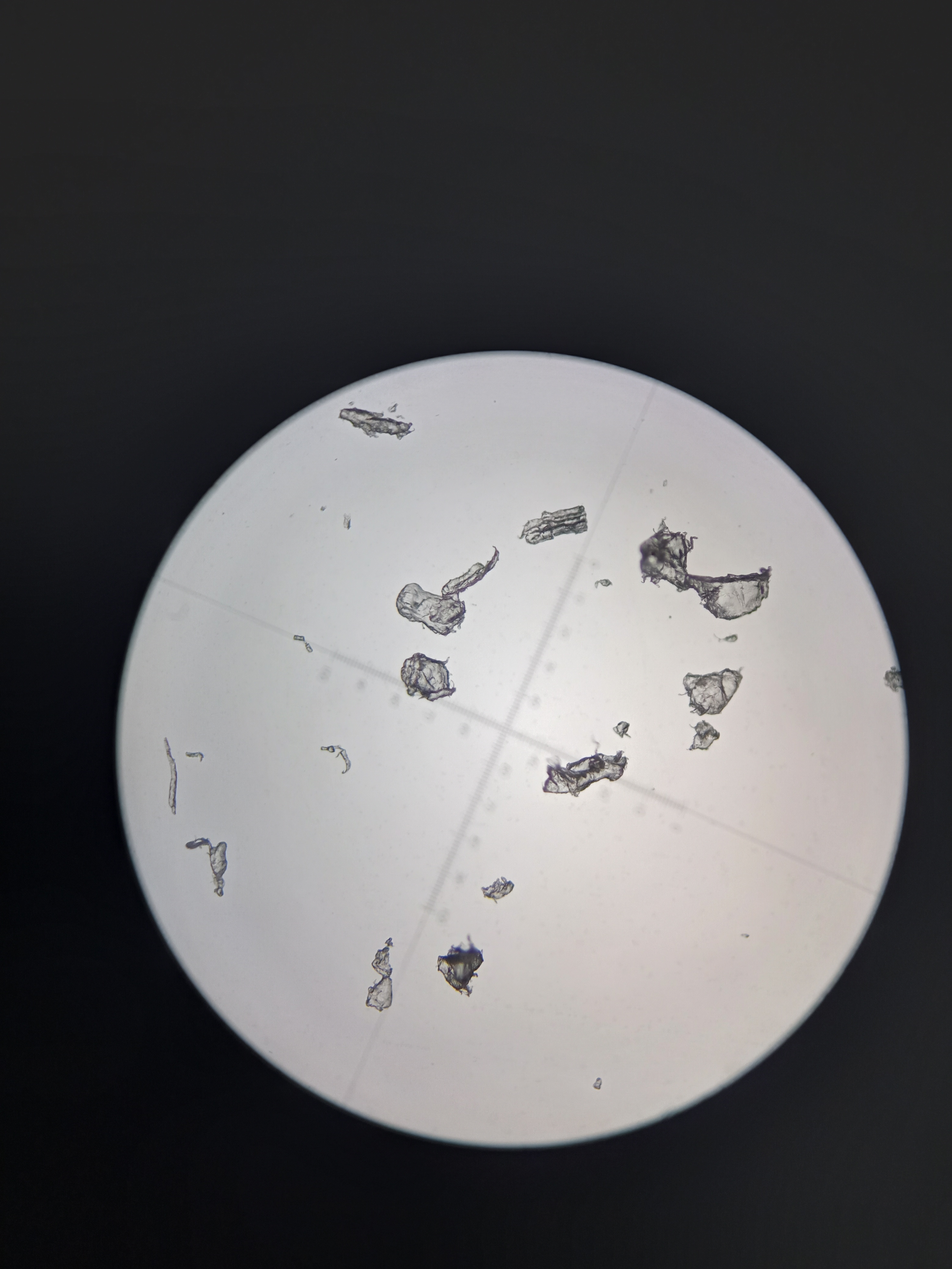microplastic: (637, 514, 774, 620), (392, 542, 503, 638), (542, 747, 632, 800), (678, 666, 745, 716), (434, 936, 487, 998), (401, 652, 461, 705), (516, 505, 593, 546), (337, 406, 418, 442), (186, 836, 228, 899), (364, 936, 399, 1011), (162, 736, 180, 817), (685, 718, 721, 754), (318, 743, 356, 775), (480, 874, 517, 903), (879, 663, 904, 694), (293, 632, 315, 655), (613, 720, 633, 741), (712, 630, 741, 644), (184, 750, 205, 761), (593, 577, 613, 588), (343, 512, 353, 530), (593, 1076, 603, 1092), (318, 505, 329, 513)
